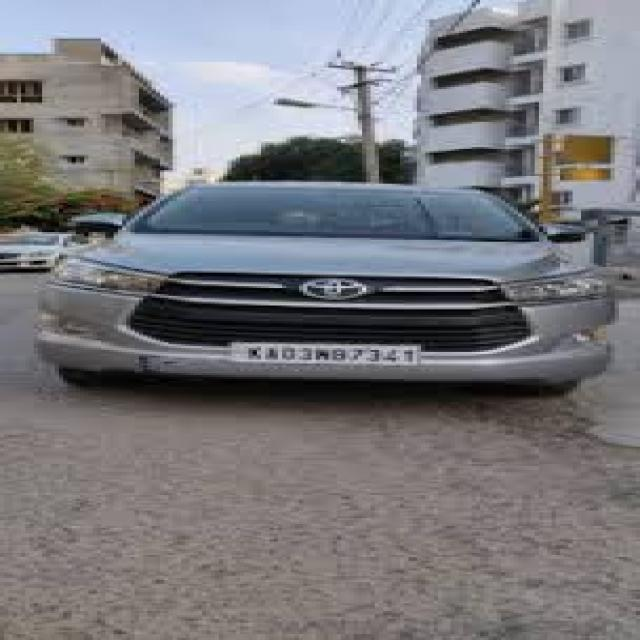light_vehicle: (38, 181, 618, 399)
